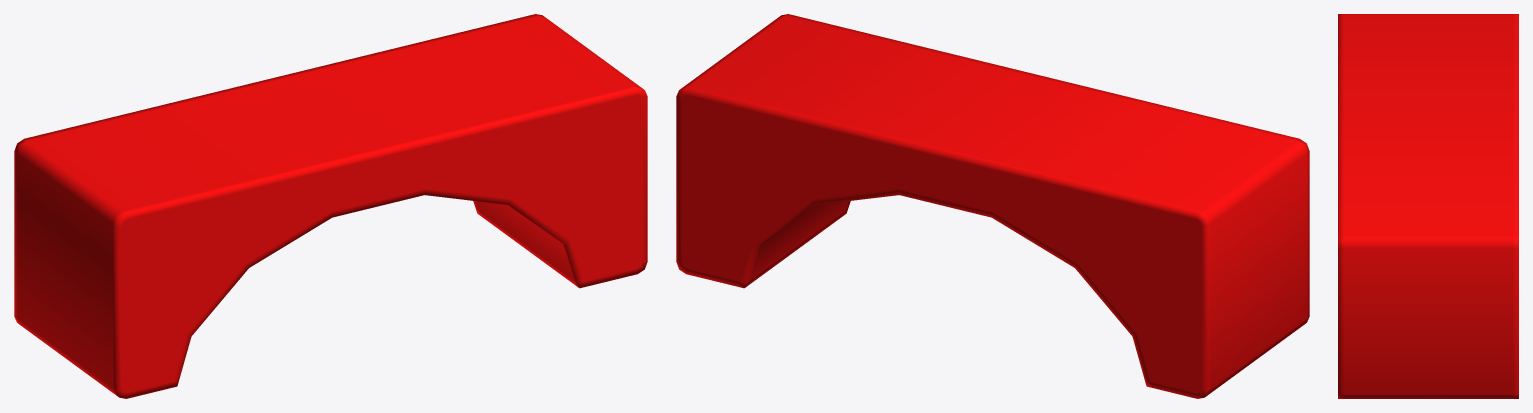
Rendered from wooden_block_bridge_3x1_01.FBX.
3 renders of one model, left to right at view 1: azimuth 30°, elevation 25°; view 2: azimuth 150°, elevation 25°; view 3: azimuth 270°, elevation 25°, orthographic. The views are drawn at different scales.
Visible parts, largest first — view 1: wooden_block_bridge_3x1_01; view 2: wooden_block_bridge_3x1_01; view 3: wooden_block_bridge_3x1_01.
Part boxes in pixels (bbox=[...]): wooden_block_bridge_3x1_01: bbox=[14, 14, 647, 398]; wooden_block_bridge_3x1_01: bbox=[676, 14, 1309, 398]; wooden_block_bridge_3x1_01: bbox=[1338, 14, 1518, 398].
Bounding box in the file's own units: 588 × 196 × 196.
